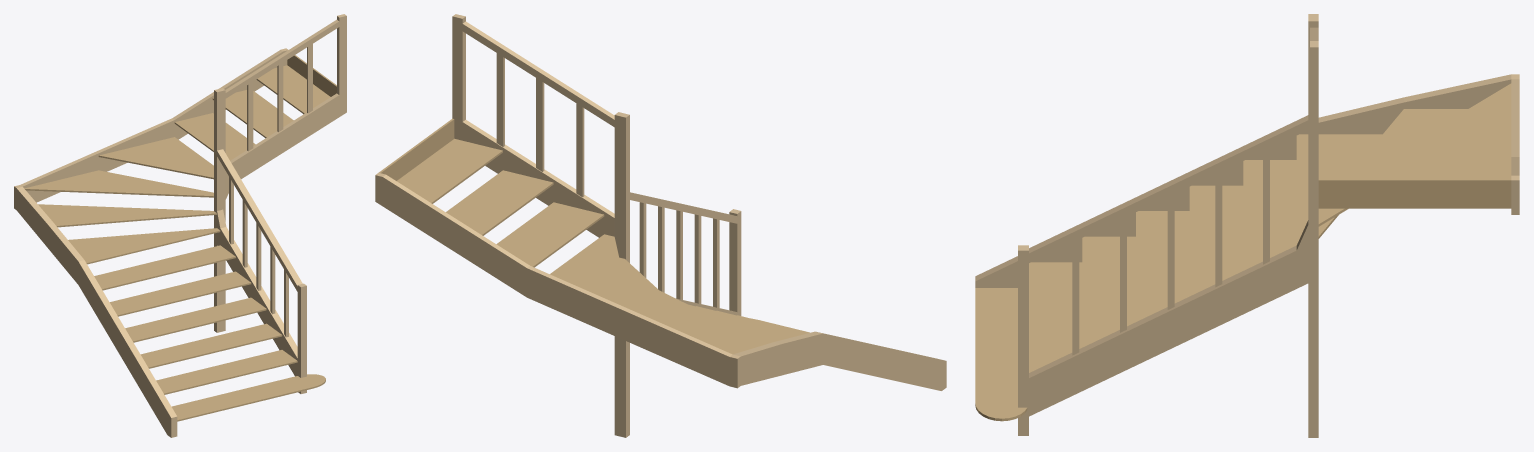
Rendered from sh-contrib-staircase-90-high-open.glb.
3 renders of one model, left to right at view 1: azimuth 30°, elevation 25°; view 2: azimuth 150°, elevation 25°; view 3: azimuth 270°, elevation 25°, orthographic. The views are drawn at different scales.
Parts seen in each view (by area): view 1: 6_6, 2_2, 3_3; view 2: 2_2, 6_6, 3_3; view 3: 6_6, 2_2, 3_3.
Part boxes in pixels (x1,y1,x2,y2): 6_6: (24, 50, 336, 421); 2_2: (14, 48, 346, 437); 3_3: (214, 14, 346, 393); 2_2: (375, 119, 946, 390); 6_6: (379, 118, 809, 354); 3_3: (452, 14, 741, 437); 6_6: (975, 83, 1511, 421); 2_2: (975, 74, 1519, 416); 3_3: (1018, 14, 1318, 437).
Size of the model in its own units: 1 by 1 by 1.
